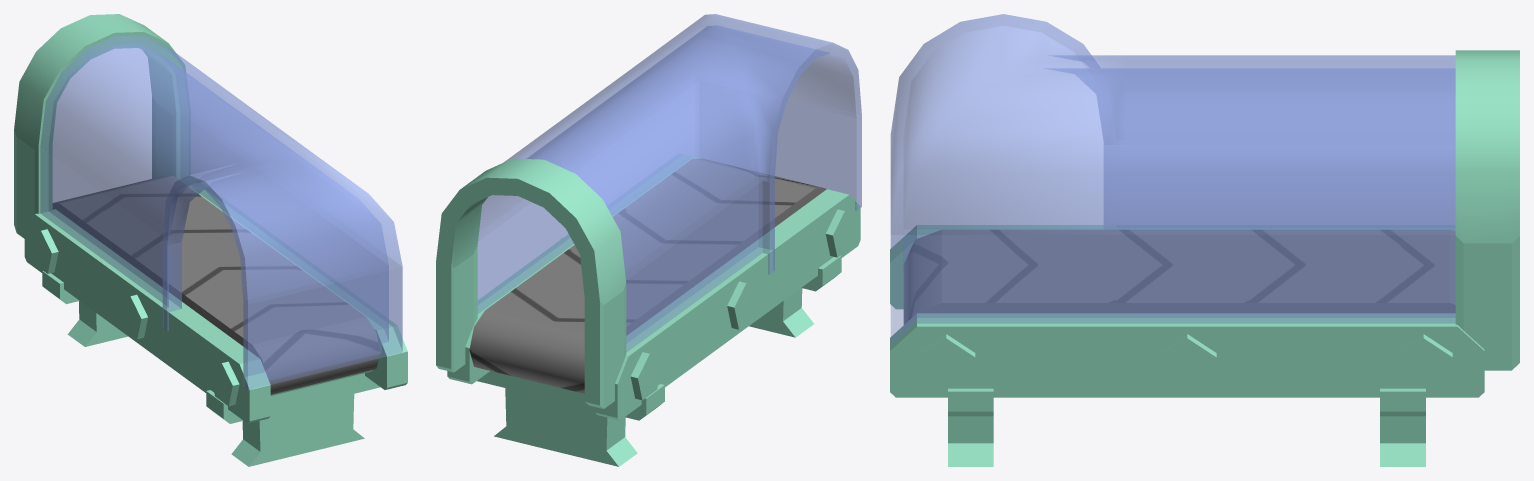
The model's file is factory_belt_left.FBX.
3 renders of one model, left to right at view 1: azimuth 30°, elevation 25°; view 2: azimuth 150°, elevation 25°; view 3: azimuth 270°, elevation 25°, orthographic. The views are drawn at different scales.
Parts seen in each view (by area): view 1: factory_belt_left_base, factory_lbelt_left_belt; view 2: factory_belt_left_base, factory_lbelt_left_belt; view 3: factory_belt_left_base, factory_lbelt_left_belt.
Boxes of the visible parts, <box> form: factory_belt_left_base: <box>14,14,407,466</box>; factory_lbelt_left_belt: <box>53,176,380,394</box>; factory_belt_left_base: <box>436,14,861,466</box>; factory_lbelt_left_belt: <box>469,159,826,393</box>; factory_belt_left_base: <box>890,14,1519,466</box>; factory_lbelt_left_belt: <box>904,230,1455,324</box>.
Size of the model in its own units: 130 by 314 by 202.
